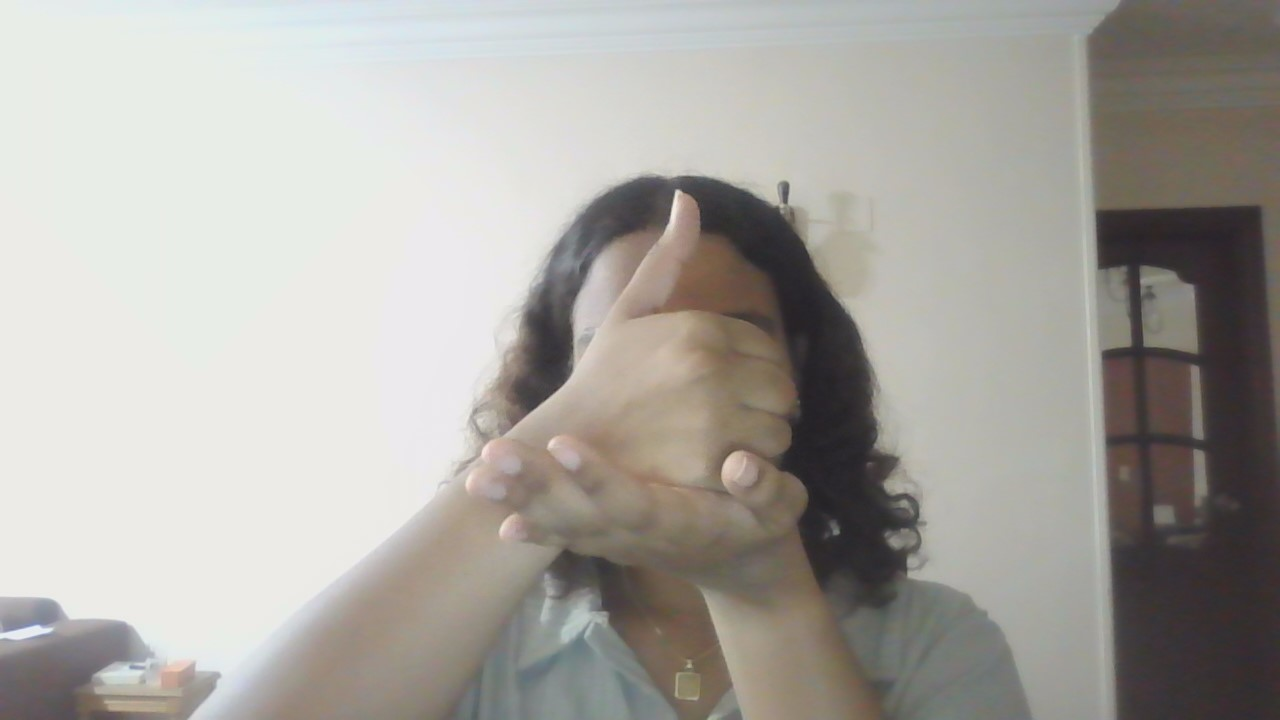help: (429, 176, 939, 609)
